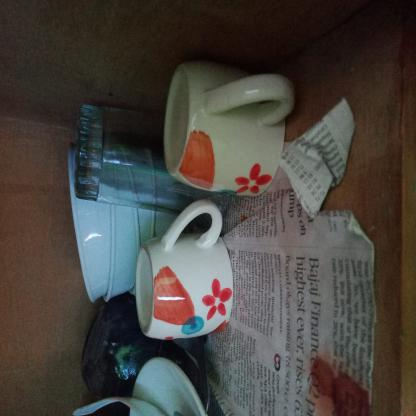cup: (165, 218, 269, 396), (55, 180, 163, 314)
